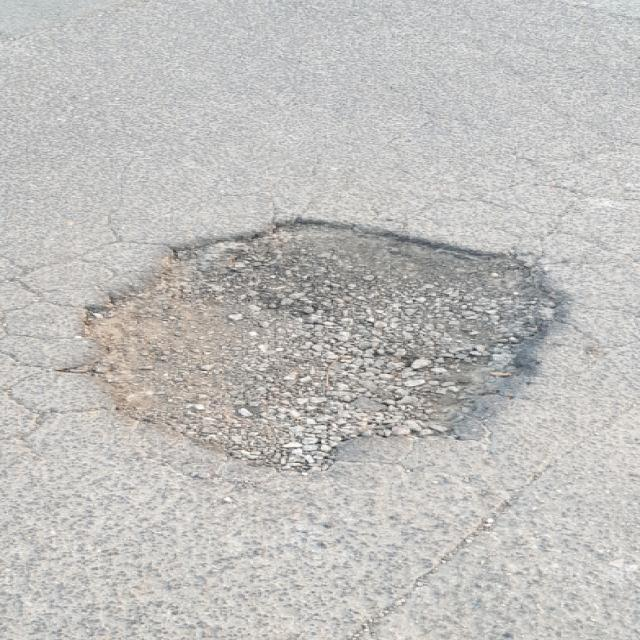pothole: (57, 212, 581, 478)
